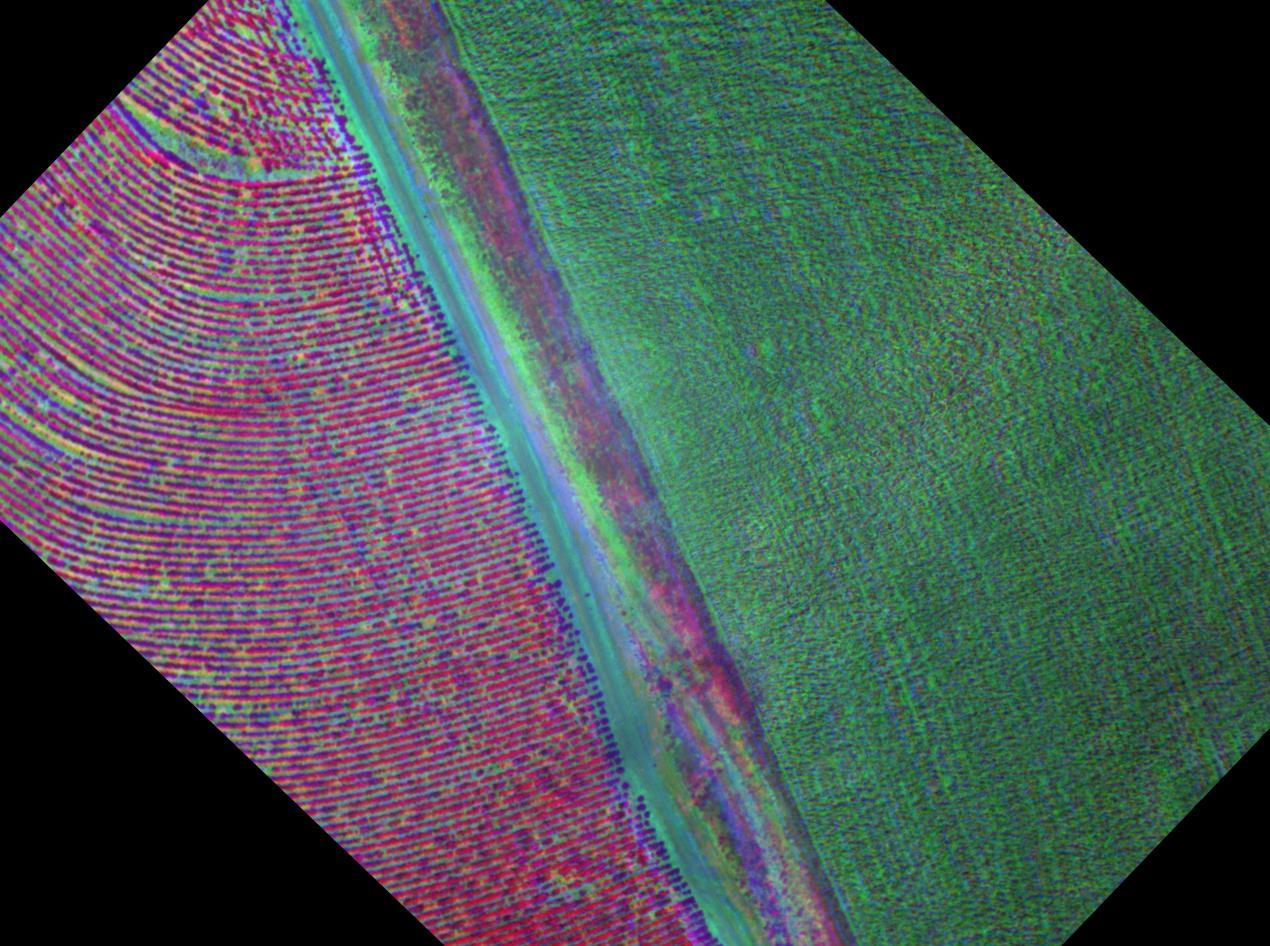dc: (118, 90, 313, 188), (78, 493, 220, 613), (156, 260, 323, 354), (0, 325, 87, 452), (231, 0, 316, 69)
